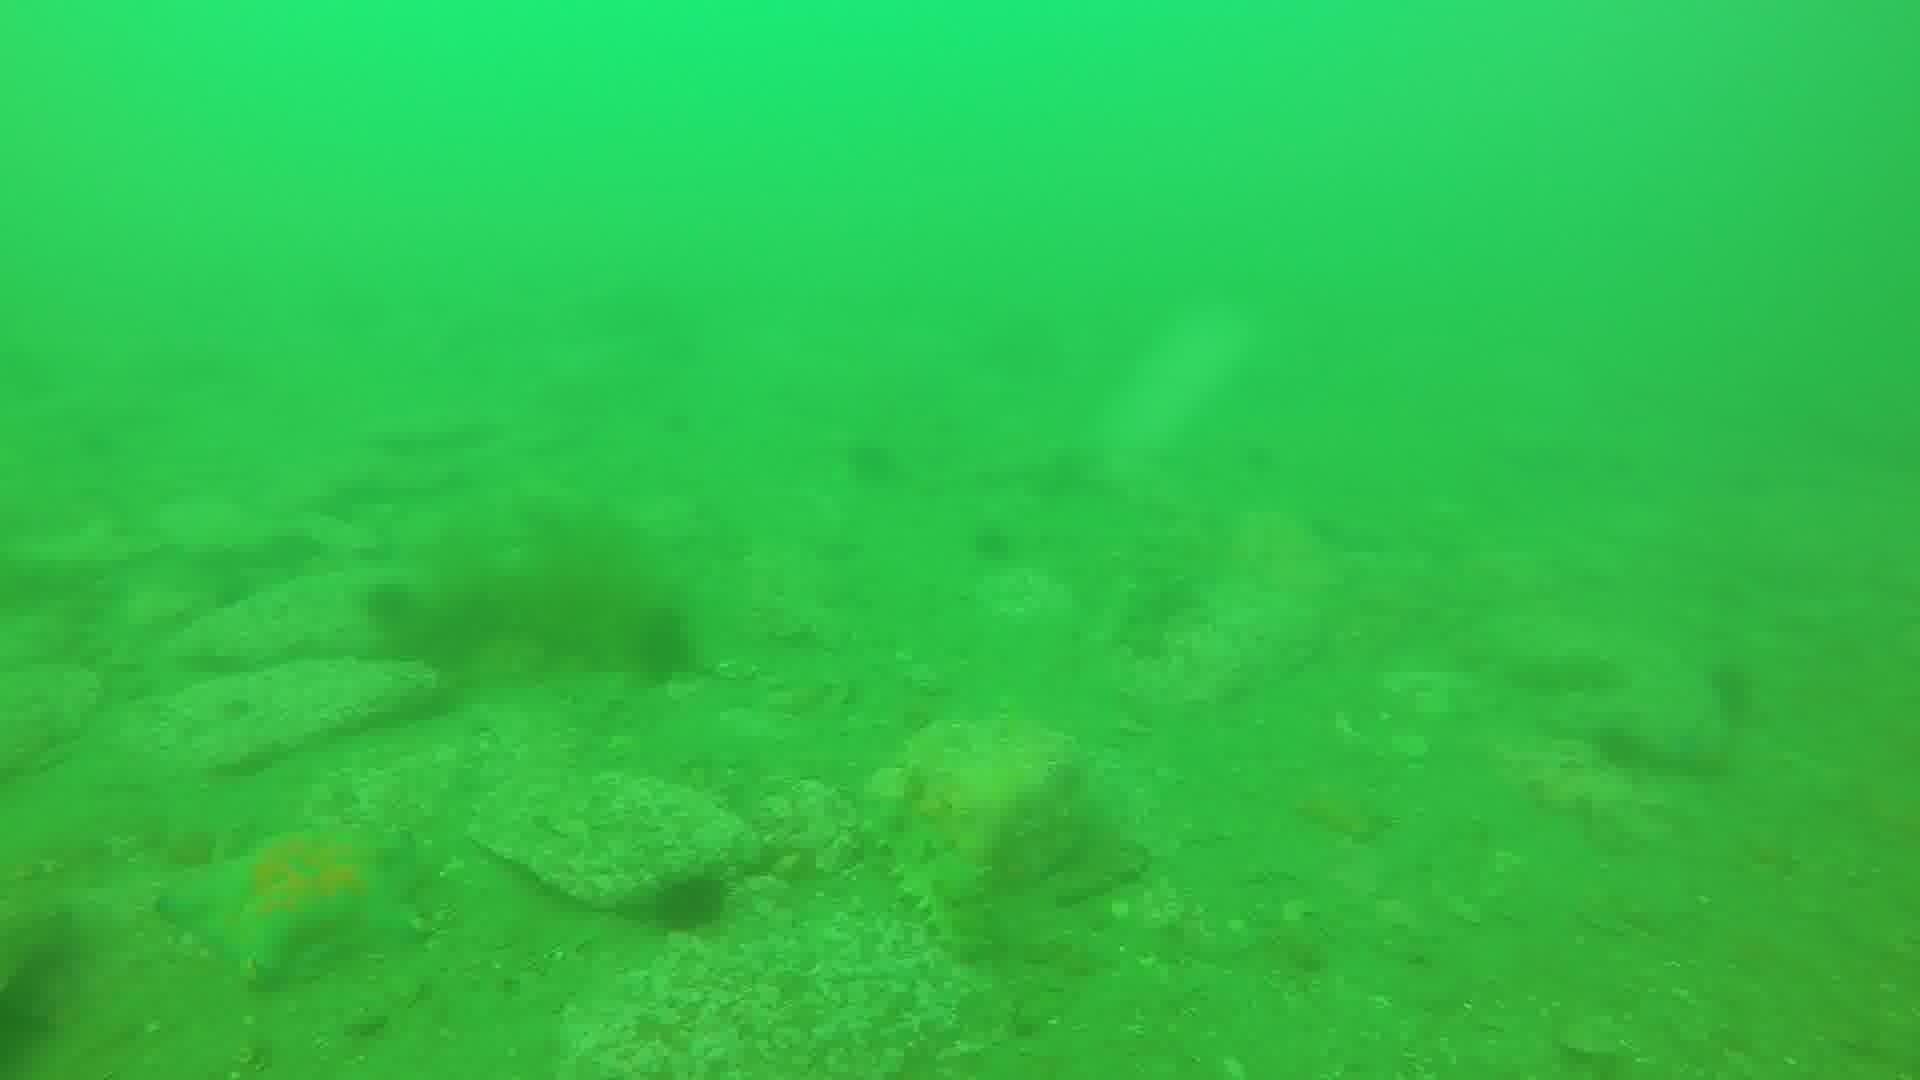echinus: (654, 866, 731, 928)
holothurian: (873, 819, 1000, 969)
starfish: (154, 829, 430, 996)
